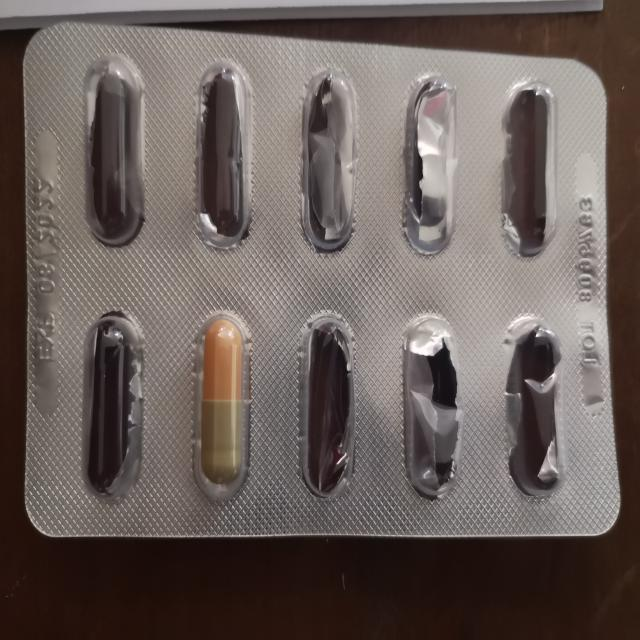Empty: (392, 307, 475, 508), (290, 304, 370, 508), (76, 46, 154, 252), (76, 304, 152, 509), (496, 306, 574, 504), (186, 49, 260, 256), (291, 57, 364, 260), (493, 71, 565, 263), (396, 66, 464, 260)
Pill: (185, 304, 263, 510)
